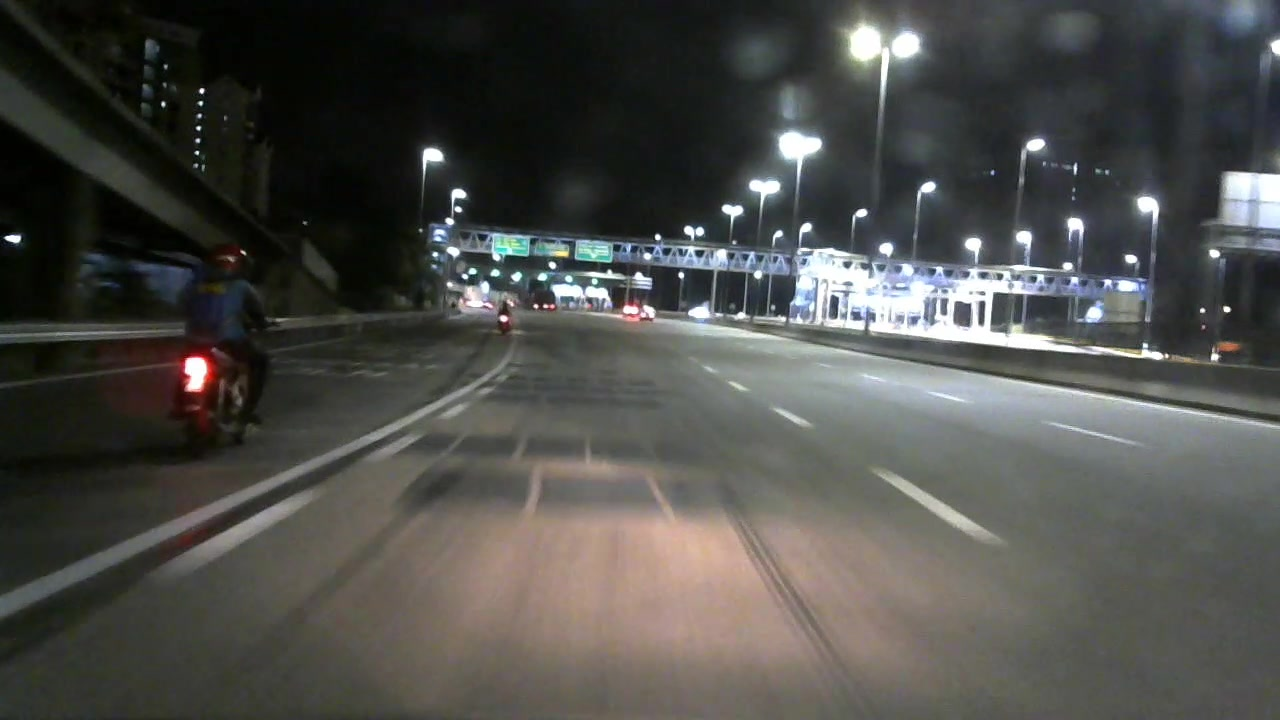Car: (639, 307, 666, 324)
